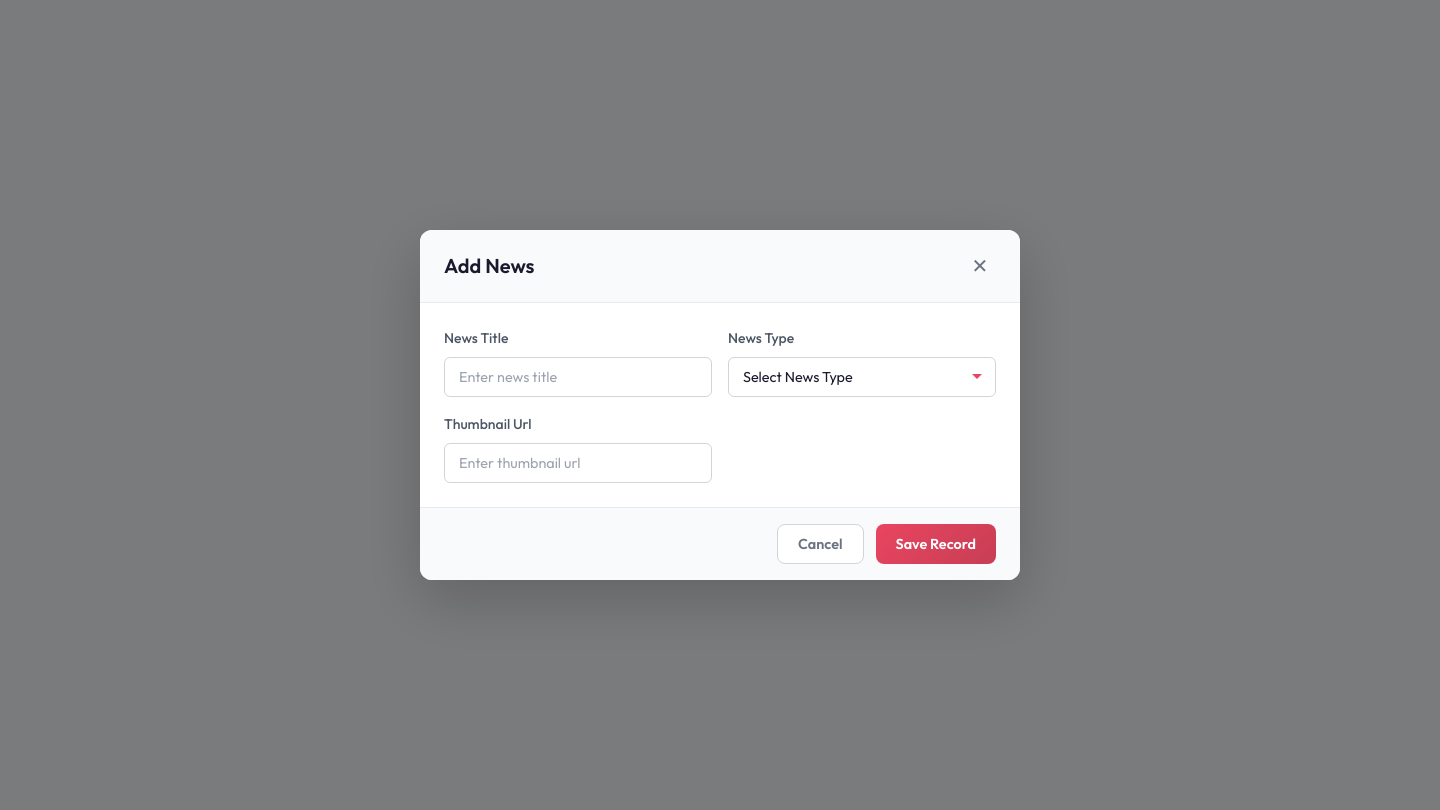
RecordModal › shows validation error for invalid URL
Type "not-a-valid-url" into the field labelled "Thumbnail Url".
click(578, 463); type("not-a-valid-url")  # box [444,443,712,483]
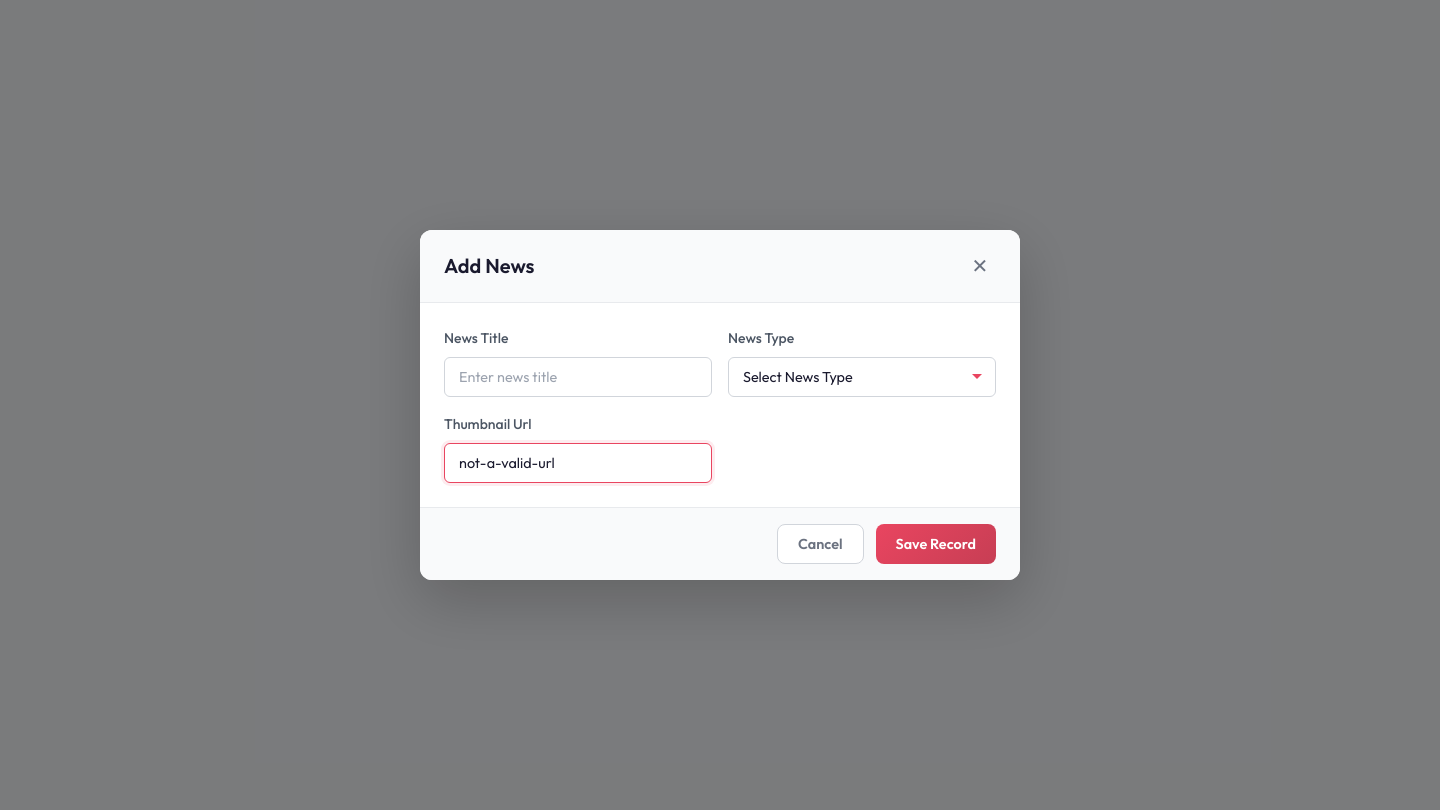
Click the button "Save Record".
click(936, 544)  # box [876,524,996,564]
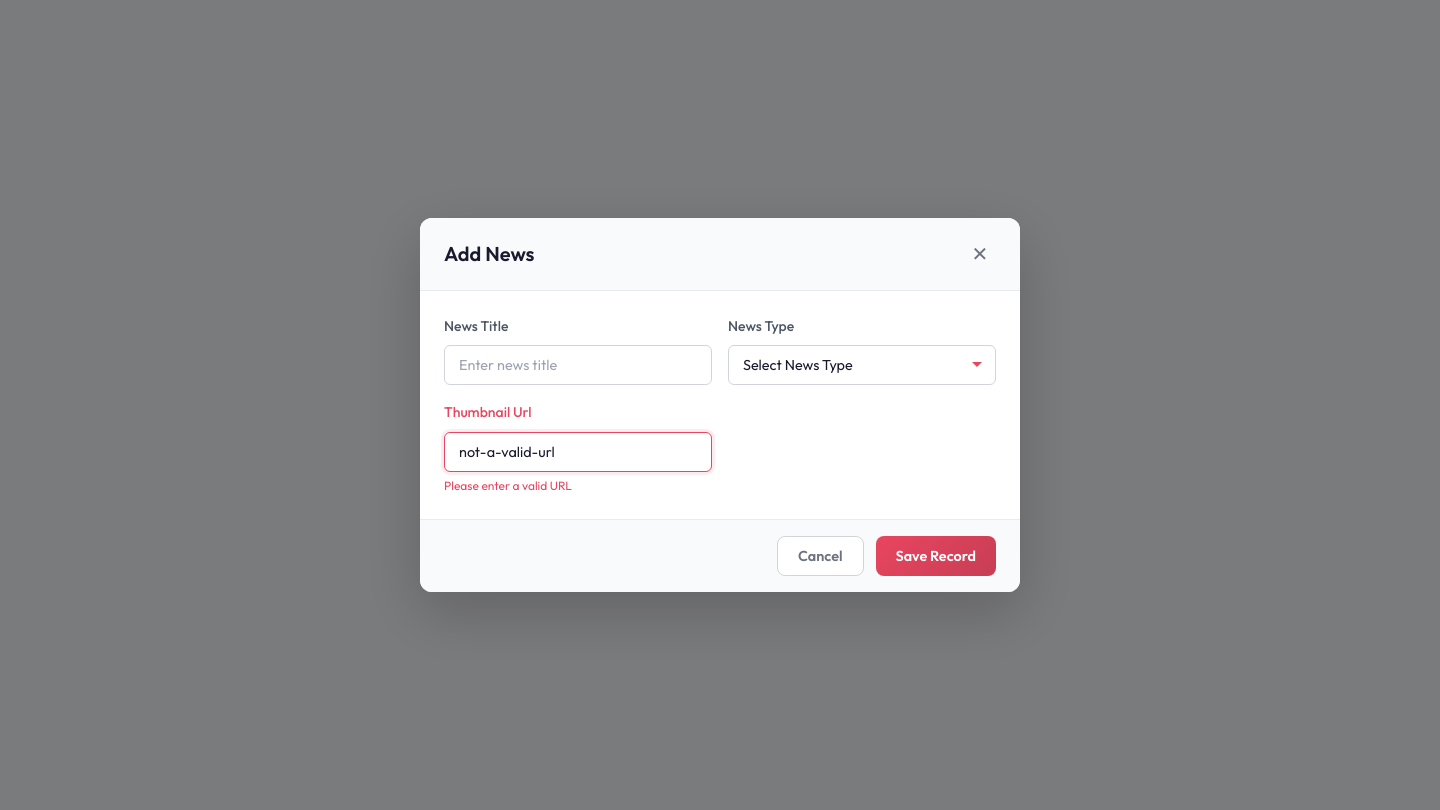
Check: the text "Please enter a valid URL" is shown, box [444,478,572,493]
